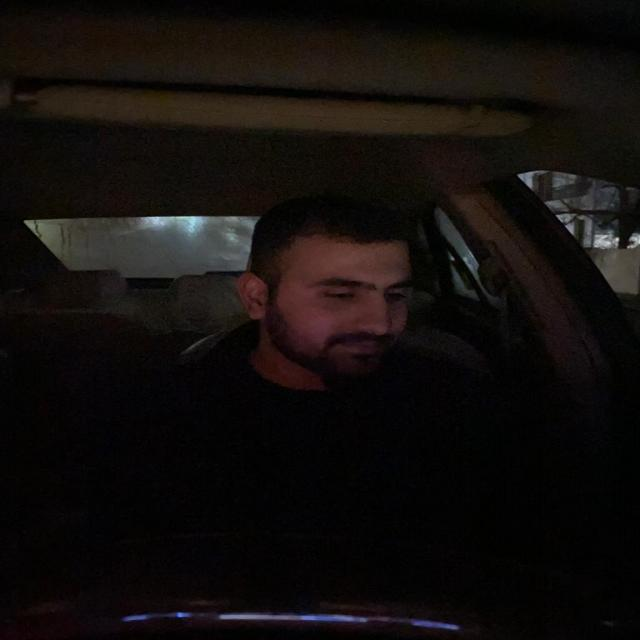drowsy: (251, 202, 424, 379)
